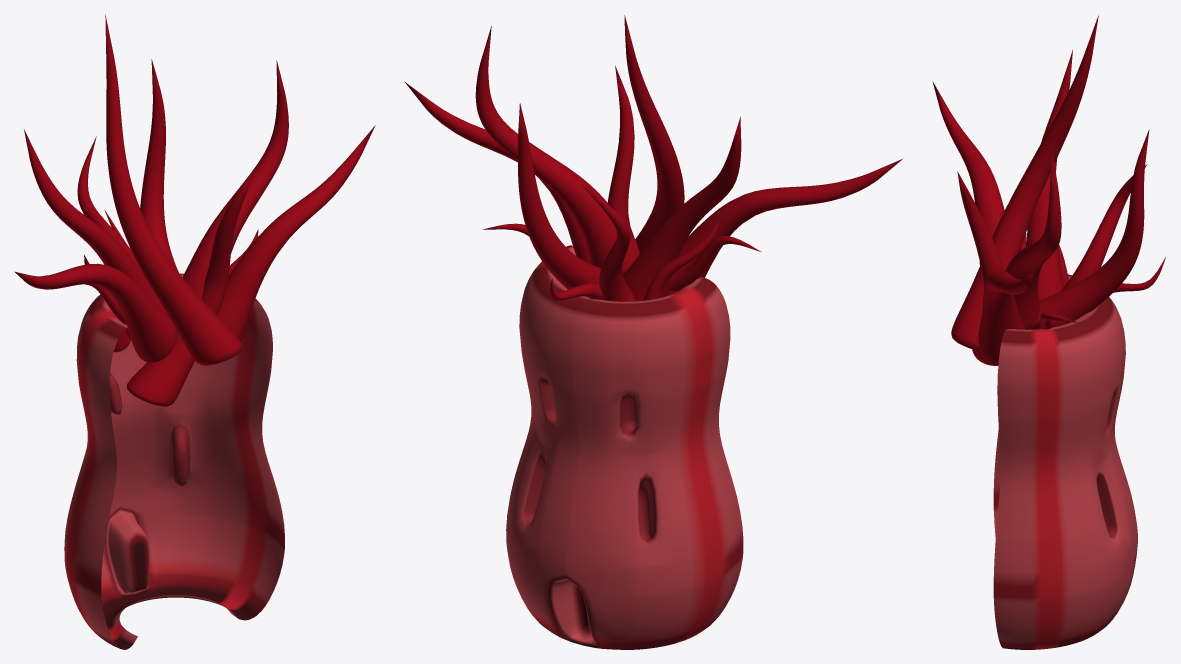
Rendered from Sns Anemone House.fbx.
3 renders of one model, left to right at view 1: azimuth 30°, elevation 25°; view 2: azimuth 150°, elevation 25°; view 3: azimuth 270°, elevation 25°, orthographic. The views are drawn at different scales.
Parts seen in each view (by area): view 1: pasted__polySurface15; view 2: pasted__polySurface15; view 3: pasted__polySurface15.
Boxes of the visible parts, x1,y1,x2,y2 form: pasted__polySurface15: [14, 14, 375, 649]; pasted__polySurface15: [405, 15, 902, 649]; pasted__polySurface15: [932, 15, 1165, 649].
Size of the model in its own units: 1149 by 1580 by 570.
